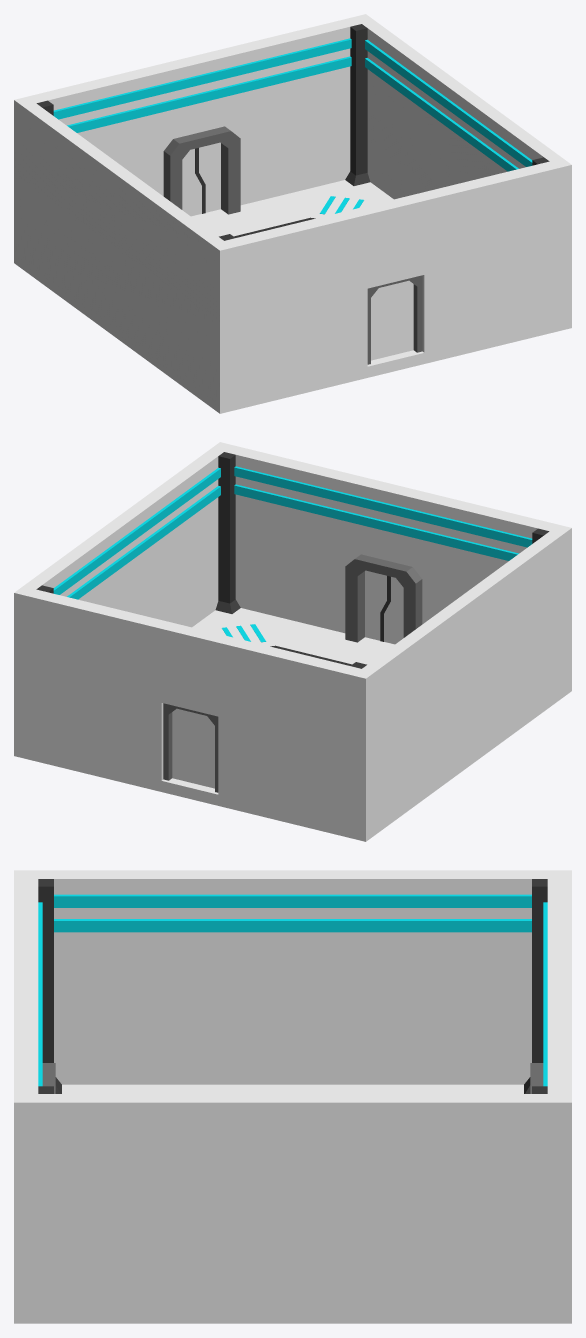
The model's file is SciFiRoom3 1.fbx.
3 views of the same model, one above another, from view 1: azimuth 30°, elevation 25°; view 2: azimuth 150°, elevation 25°; view 3: azimuth 270°, elevation 25° (orthographic). The views are drawn at different scales.
Visible parts, largest first — view 1: Door2.015, Door2.026, Door2.027, Door2.025, Door2.024, Cube.003, Door2.023, Cube, Door2.013, Door2.018, Door2.022, Door2.019 (+1 smaller); view 2: Door2.027, Door2.026, Door2.015, Door2.025, Door2.024, Cube.003, Door2.019, Cube, Door2.021, Door2.022, Door2.018, Door2.023 (+1 smaller); view 3: Door2.025, Door2.026, Cube.003, Door2.024, Door2.015, Door2.027, Cube.
Boxes of the visible parts, x1,y1,x2,y2 form: Door2.015: [220, 161, 571, 402]; Door2.026: [14, 100, 223, 402]; Door2.027: [14, 14, 365, 205]; Door2.025: [362, 14, 571, 199]; Door2.024: [14, 180, 571, 413]; Cube.003: [53, 38, 532, 214]; Door2.023: [163, 126, 240, 214]; Cube: [36, 24, 549, 240]; Door2.013: [371, 285, 396, 360]; Door2.018: [390, 280, 413, 354]; Door2.022: [199, 142, 220, 212]; Door2.019: [367, 275, 422, 364]; Door2.027: [14, 589, 365, 830]; Door2.026: [362, 528, 571, 830]; Door2.015: [220, 442, 571, 633]; Door2.025: [14, 442, 223, 627]; Door2.024: [14, 608, 571, 841]; Cube.003: [53, 466, 532, 642]; Door2.019: [345, 554, 422, 642]; Cube: [36, 452, 549, 668]; Door2.021: [189, 713, 214, 788]; Door2.022: [172, 708, 195, 782]; Door2.018: [365, 570, 386, 640]; Door2.023: [163, 703, 218, 792]; Door2.025: [14, 1094, 571, 1308]; Door2.026: [15, 870, 570, 1084]; Cube.003: [38, 894, 547, 1086]; Door2.024: [14, 1084, 571, 1323]; Door2.015: [14, 870, 38, 1102]; Door2.027: [547, 870, 571, 1102]; Cube: [38, 879, 547, 1093].
Size of the model in its own units: 1635 by 725 by 1658.
1 material, 1 textured.
